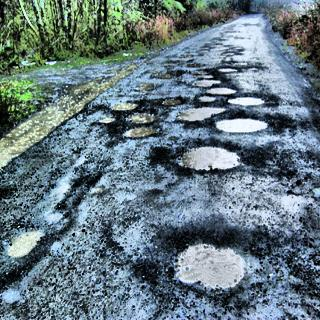pothole: (96, 70, 268, 138), (153, 226, 268, 309), (166, 134, 248, 182), (0, 224, 55, 262), (193, 34, 244, 57)
